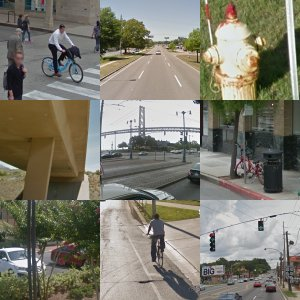棕梠樹: (170, 1, 202, 91)
汽車: (122, 267, 164, 289), (156, 184, 199, 200)
行人穿越道: (1, 130, 100, 194), (45, 19, 99, 99), (259, 244, 300, 266)
